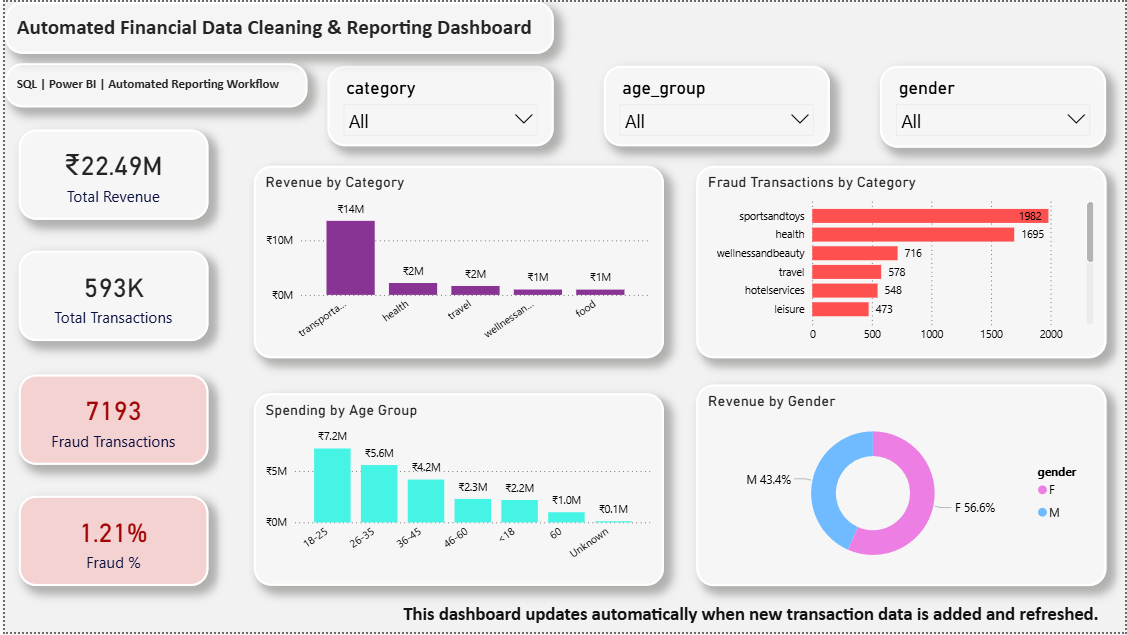

This screenshot's page, from the dashboard's own definition file:
{"tool":"powerbi","page":{"name":"Automated Financial Reporting Dashboard","canvas":[1280,720],"ordinal":0},"visuals":[{"type":"card","fields":{"Values":["finance_project transactions.Total Revenue"]},"box":[15.7,145.7,217.1,102.9],"z":1000},{"type":"card","fields":{"Values":["finance_project transactions.Total Transactions"]},"box":[15.7,284.3,217.1,102.9],"z":2000},{"type":"card","fields":{"Values":["finance_project transactions.Fraud %"]},"box":[15.7,564.3,217.1,102.9],"z":3000},{"type":"card","fields":{"Values":["finance_project transactions.Fraud Transactions"]},"box":[15.7,425.7,217.1,102.9],"z":4000},{"type":"clusteredColumnChart","title":"Revenue by Category","fields":{"Category":["finance_project transactions.category"],"Y":["finance_project transactions.Total Revenue"]},"box":[284.3,187.1,468.6,220],"z":5000},{"type":"clusteredBarChart","title":"Fraud Transactions by Category","fields":{"Category":["finance_project transactions.category"],"Y":["finance_project transactions.Fraud Transactions"]},"box":[790,187.1,468.6,220],"z":6000},{"type":"clusteredColumnChart","title":"Spending by Age Group","fields":{"Category":["finance_project transactions.age_group"],"Y":["finance_project transactions.Total Revenue"]},"box":[284.3,447.1,468.6,220],"z":7000},{"type":"donutChart","title":"Revenue by Gender","fields":{"Category":["finance_project transactions.gender"],"Y":["finance_project transactions.Total Revenue"]},"box":[790,437.1,468.6,230],"z":8000},{"type":"slicer","fields":{"Values":["finance_project transactions.category"]},"box":[368.3,73.3,258.3,91.7],"z":9000},{"type":"slicer","fields":{"Values":["finance_project transactions.age_group"]},"box":[685,73.3,258.3,91.7],"z":10000},{"type":"slicer","fields":{"Values":["finance_project transactions.gender"]},"box":[1000,73.3,258.3,93.3],"z":11000},{"type":"textbox","box":[0,0,627.1,59],"z":12000},{"type":"textbox","box":[0,69.3,345.7,50.7],"z":13000},{"type":"textbox","box":[450,681.4,830,38.6],"z":14000}]}

Visuals, with their boxes in screenshot pixels (x1, y1, x2, y2), scaled from the page's 1280x720 canvas onto the 1127x635 screenshot:
card - finance_project transactions.Total Revenue: (14, 128, 205, 219)
card - finance_project transactions.Total Transactions: (14, 251, 205, 341)
card - finance_project transactions.Fraud %: (14, 498, 205, 588)
card - finance_project transactions.Fraud Transactions: (14, 375, 205, 466)
"Revenue by Category" clusteredColumnChart: (250, 165, 663, 359)
"Fraud Transactions by Category" clusteredBarChart: (696, 165, 1108, 359)
"Spending by Age Group" clusteredColumnChart: (250, 394, 663, 588)
"Revenue by Gender" donutChart: (696, 385, 1108, 588)
slicer - finance_project transactions.category: (324, 65, 552, 146)
slicer - finance_project transactions.age_group: (603, 65, 831, 146)
slicer - finance_project transactions.gender: (880, 65, 1108, 147)
textbox: (0, 0, 552, 52)
textbox: (0, 61, 304, 106)
textbox: (396, 601, 1126, 634)
